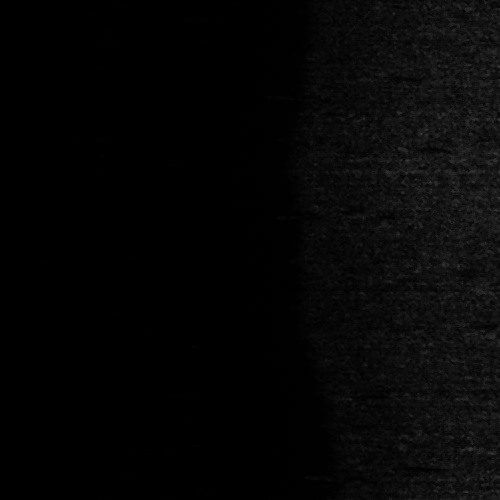object: (453, 283, 494, 288)
shadow: (474, 283, 500, 288)
